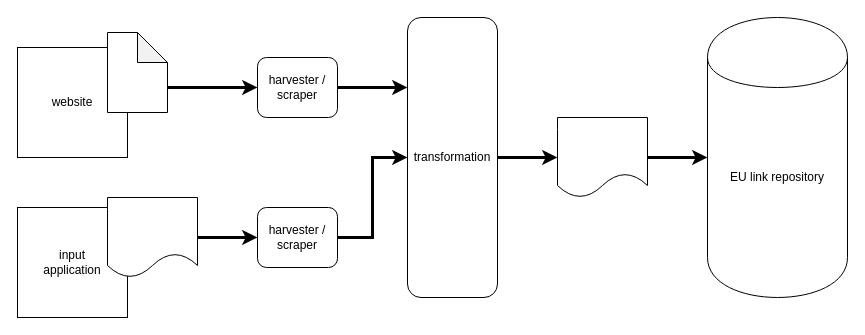
This 865x335 diagram has some shape labels left out. The shapes that lost their labels are listed below. From the top down, each one's centre as x and y in pixels, then its label:
At pixel 137 72: "feed / view".
At pixel 602 157: "file (XLS or RDF)".
At pixel 152 237: "export file".
